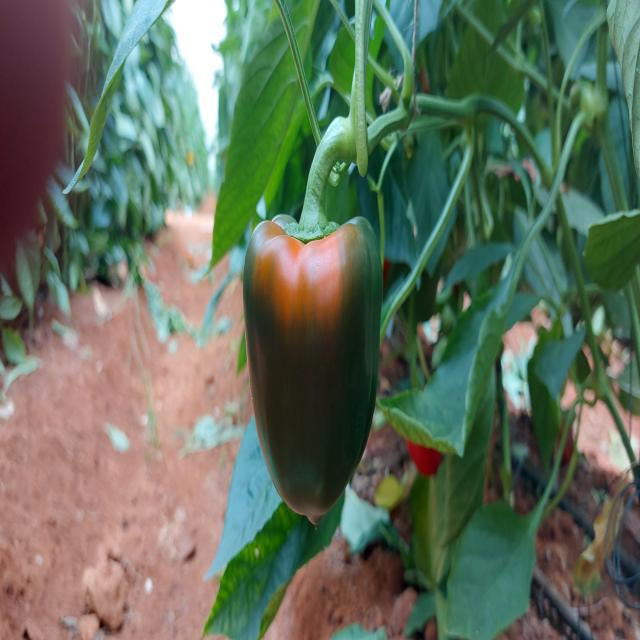BrownishRed--Can-be-Harvested: (242, 206, 384, 524)
